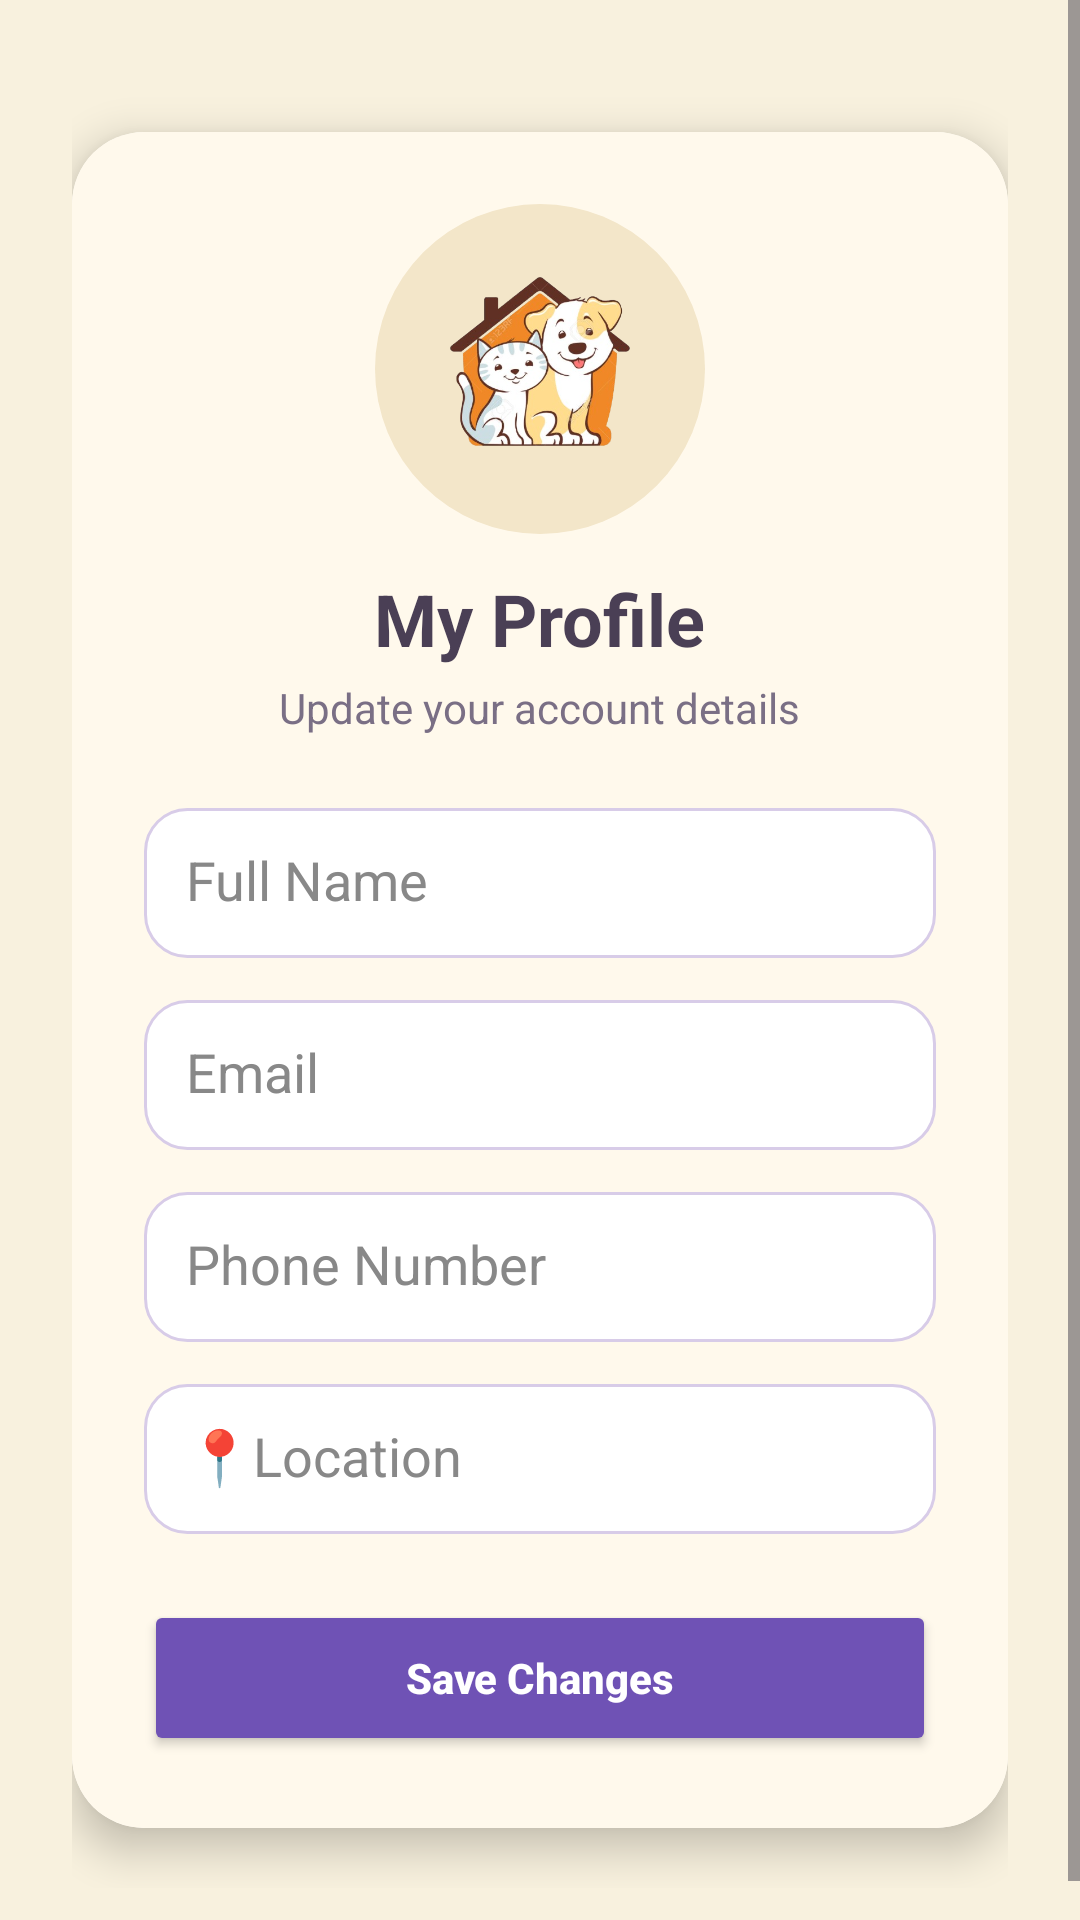

Screen size 1080×1920. Icon name, then its center in pixels as point (x, y):
dog: point (540, 369)
